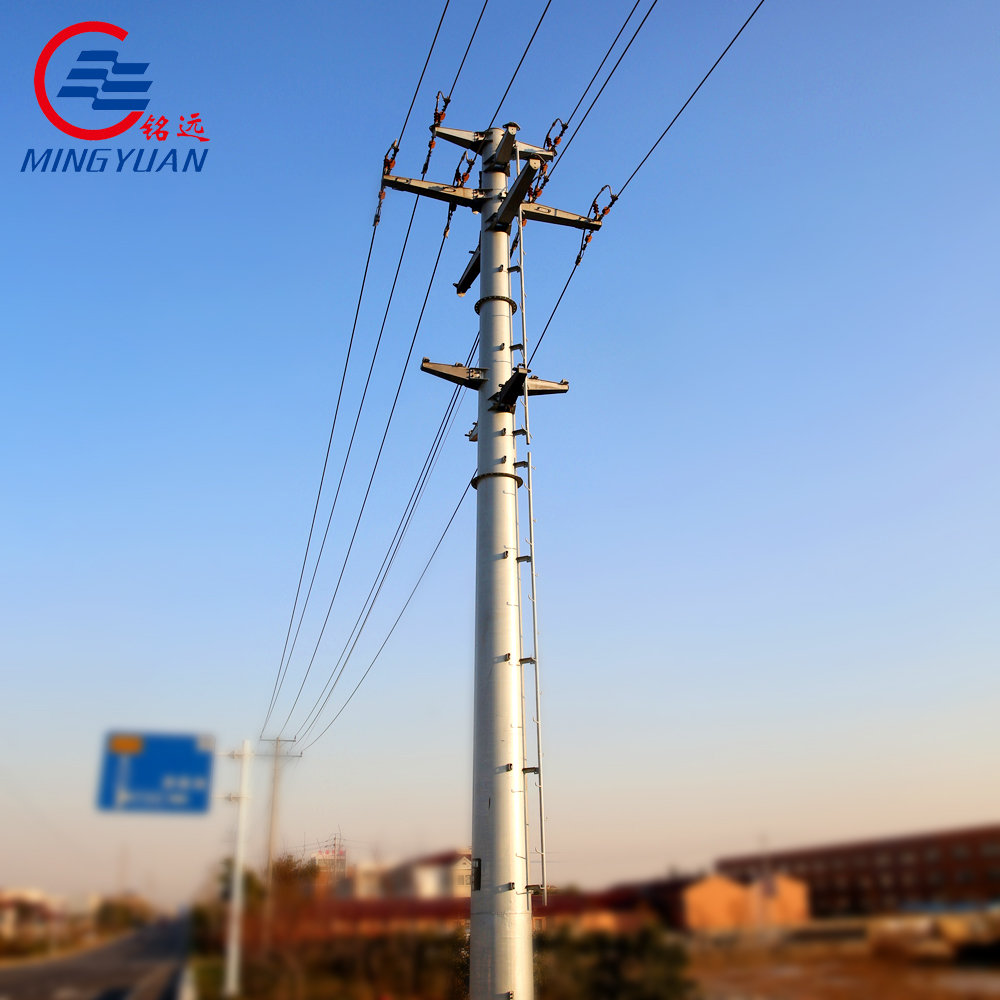utility_pole: (354, 84, 625, 450)
